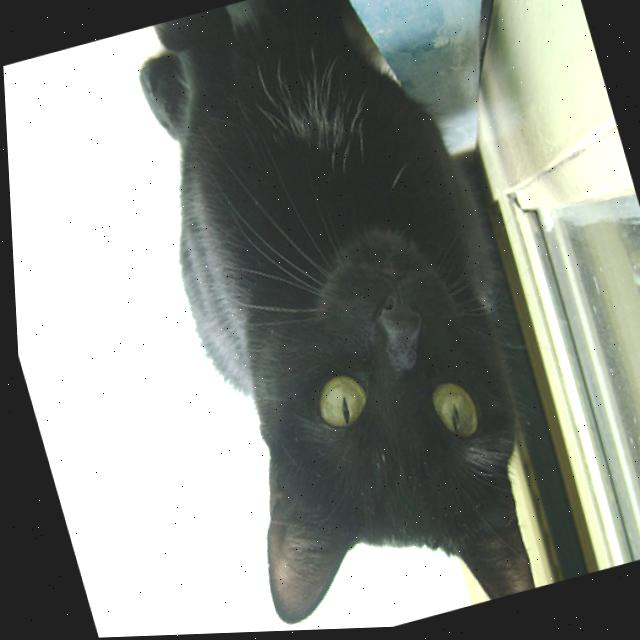Bombay: (102, 0, 577, 637)
